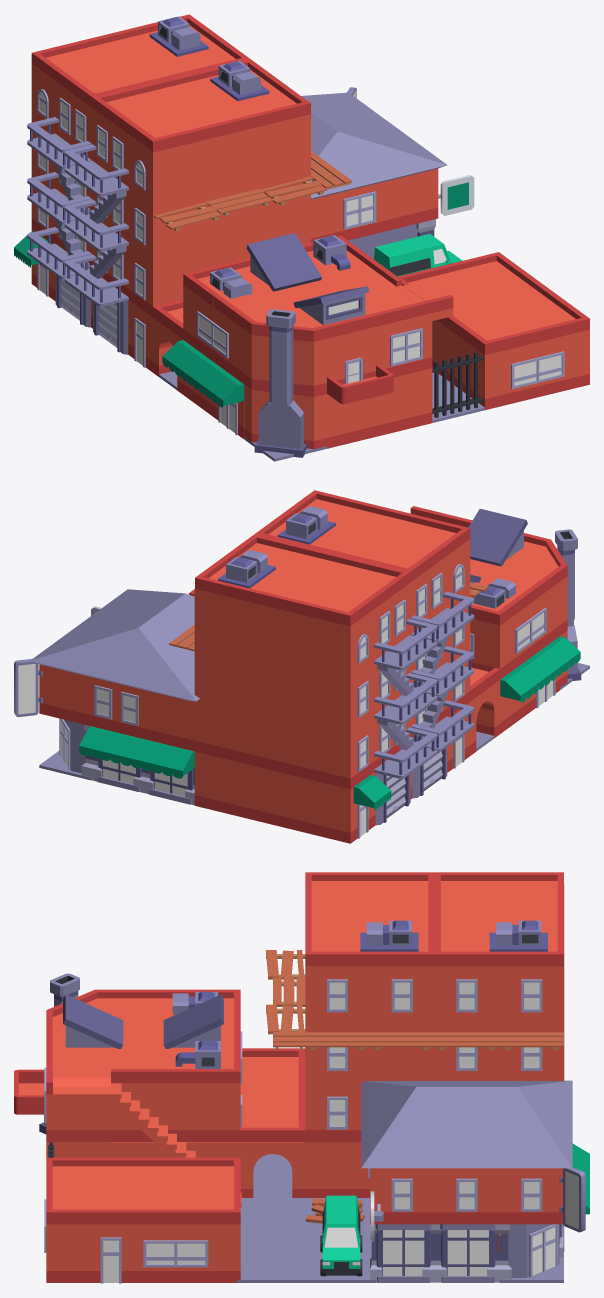
File: CityBlock_001.fbx
3 views of the same model, one above another, from view 1: azimuth 30°, elevation 25°; view 2: azimuth 150°, elevation 25°; view 3: azimuth 270°, elevation 25° (orthographic). The views are drawn at different scales.
Visible parts, largest first — view 1: mergedBlocks; view 2: mergedBlocks; view 3: mergedBlocks.
Boxes of the visible parts, x1=… form: mergedBlocks: x1=14, y1=14, x2=589, y2=461; mergedBlocks: x1=14, y1=490, x2=589, y2=843; mergedBlocks: x1=14, y1=872, x2=589, y2=1283.
Size of the model in its own units: 363 by 222 by 445.
